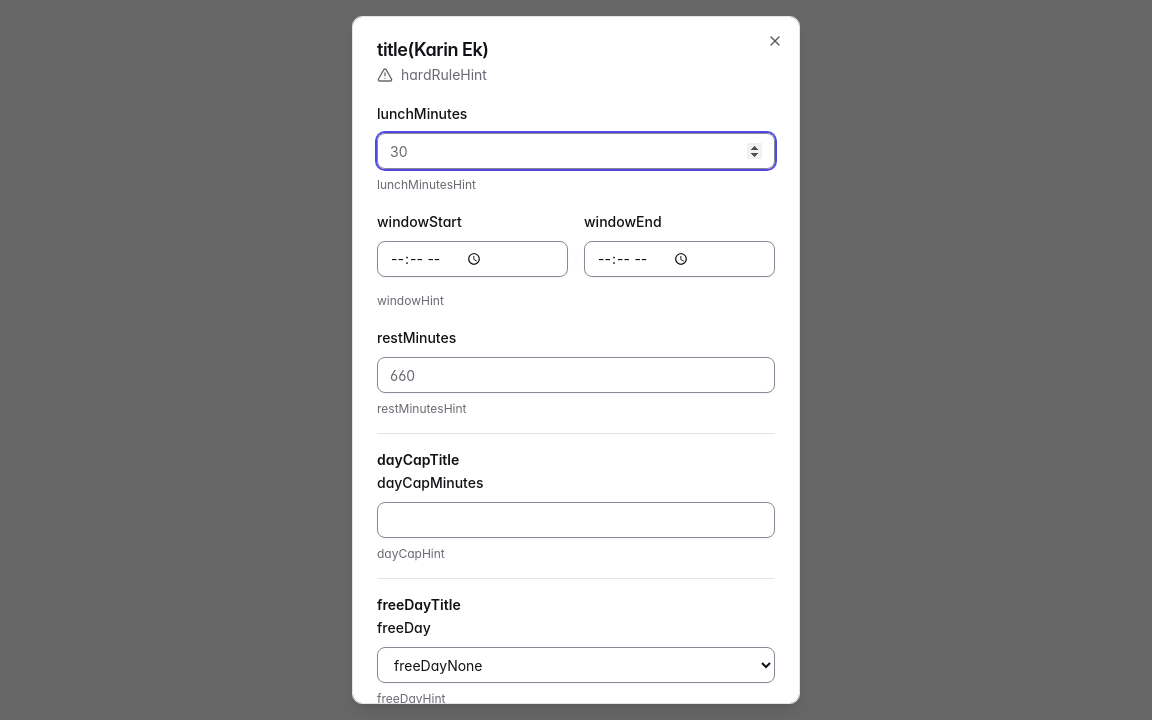
Scenario: the suggestion › completes the lunch trio when somebody starts it
This screenshot has width=1152, height=720.
Type "45" into the number field labelled "lunchMinutes" at (576, 151), box [377,133,775,169]
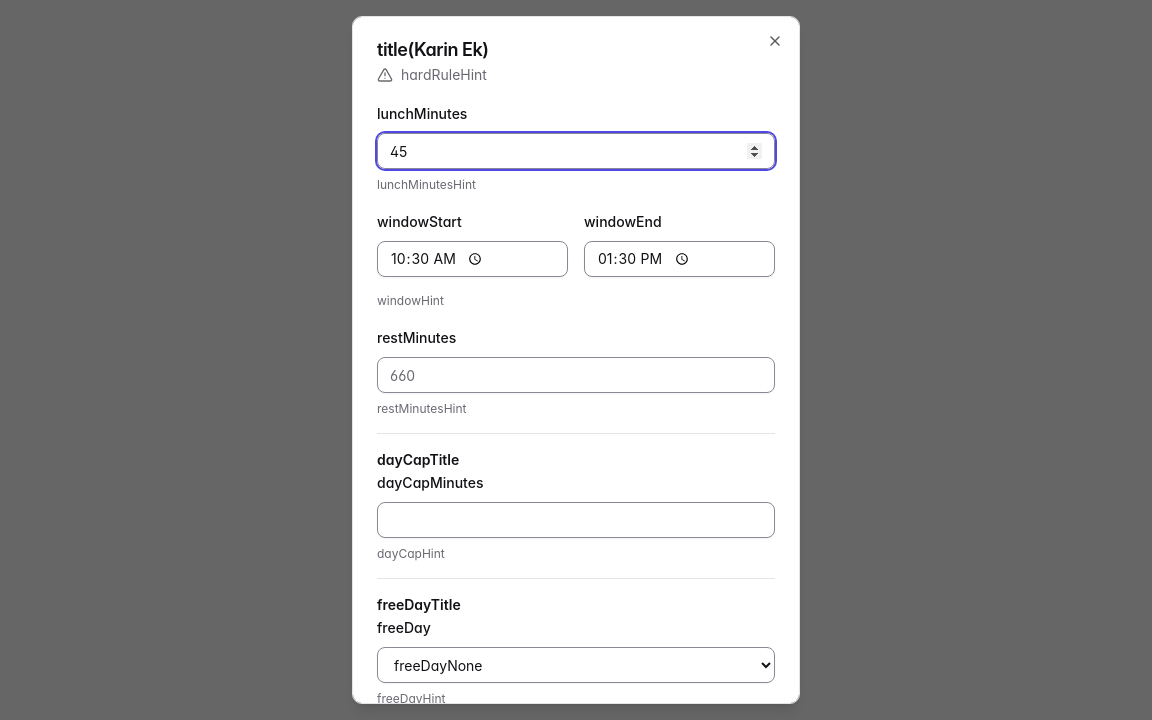
Expected: the number field labelled "restMinutes" is empty, [377,357,775,393]
Result: the time field labelled "windowStart" holds "10:30" at [377,241,568,277]
Result: the time field labelled "windowEnd" holds "13:30" at [584,241,775,277]
